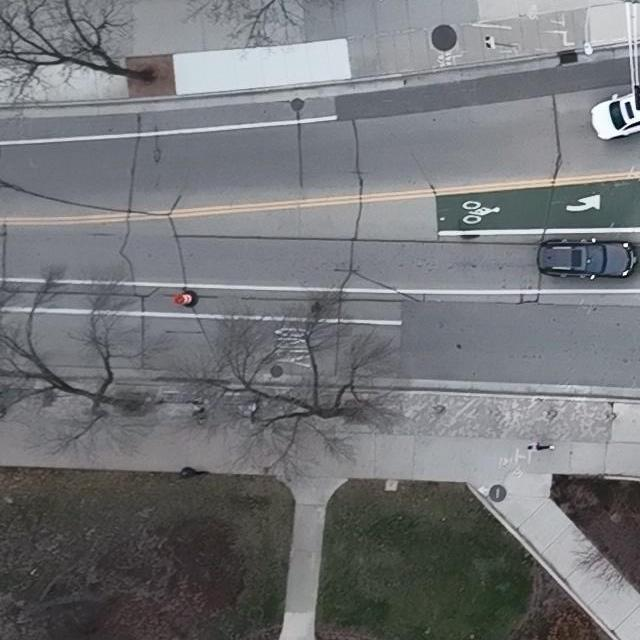car: (537, 237, 637, 280), (589, 91, 640, 141)
